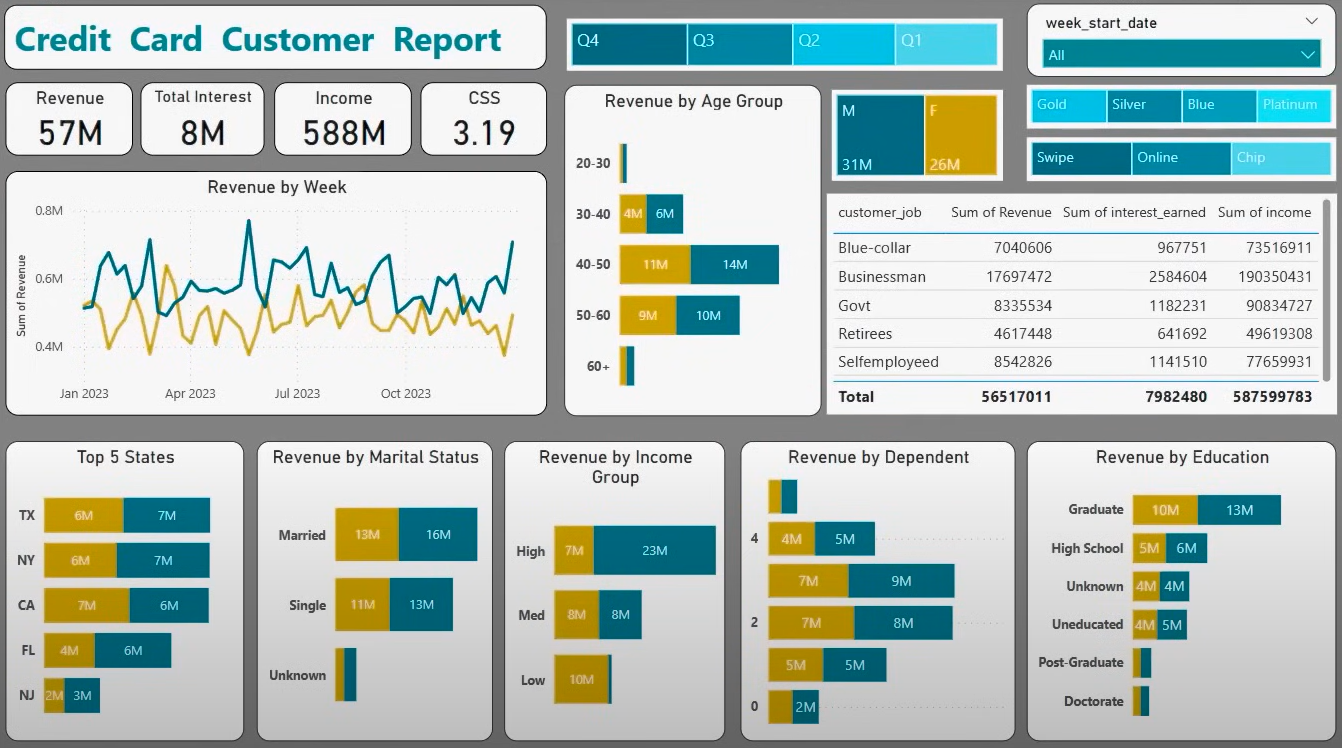

The page's visual inventory and layout, read from the dashboard file:
{"tool":"powerbi","page":{"name":"Page 3","canvas":[1280,720],"ordinal":2},"visuals":[{"type":"textbox","box":[10,20,578.6,77.1],"z":0},{"type":"tableEx","fields":{"Values":["public cust_detail.customer_job","Sum(public cc_detail.Revenue)","Sum(public cc_detail.interest_earned)","Sum(public cust_detail.income)"]},"box":[10,218.6,578.6,228.6],"z":1000},{"type":"card","fields":{"Values":["Sum(public cc_detail.Revenue)"]},"box":[154.3,111.4,134.3,95.7],"z":2000},{"type":"card","fields":{"Values":["Sum(public cc_detail.interest_earned)"]},"box":[10,111.4,128.6,95.7],"z":3000},{"type":"card","fields":{"Values":["Avg(public cust_detail.cust_satisfaction_score)"]},"box":[464.3,111.4,124.3,95.7],"z":4000},{"type":"card","fields":{"Values":["Sum(public cust_detail.income)"]},"box":[310,111.4,141.4,95.7],"z":5000},{"type":"slicer","fields":{"Values":["public cc_detail.week_start_date"]},"box":[923.5,20.6,352.7,76.8],"z":6000},{"type":"treemap","fields":{"Group":["public cc_detail.qtr"],"Values":["Sum(public cc_detail.Revenue)"]},"box":[611.4,20,301.4,67.1],"z":7000},{"type":"treemap","fields":{"Values":["Count(public cc_detail.client_num)"],"Group":["public cust_detail.gender"]},"box":[771.4,97.1,141.4,78.6],"z":8000},{"type":"treemap","fields":{"Values":["Avg(public cc_detail.client_num)"],"Group":["public cc_detail.card_category"]},"box":[931.4,108.6,344.3,84.3],"z":9000},{"type":"barChart","title":"Revenue by Expenditure Type","fields":{"Y":["Sum(public cc_detail.Revenue)"],"Series":["public cust_detail.gender"],"Category":["public cust_detail.education_level"]},"box":[1035.7,437.1,240,274.3],"z":10000},{"type":"lineChart","fields":{"Y":["Sum(public cc_detail.Revenue)"],"Category":["public cc_detail.week_start_date.Variation.Date Hierarchy.Year","public cc_detail.week_start_date.Variation.Date Hierarchy.Quarter","public cc_detail.week_start_date.Variation.Date Hierarchy.Month","public cc_detail.week_start_date.Variation.Date Hierarchy.Day"],"Series":["public cust_detail.gender"]},"box":[852.9,207.1,422.9,218.6],"z":10001},{"type":"treemap","fields":{"Group":["public cust_detail.gender"],"Values":["Sum(public cc_detail.Revenue)"]},"box":[611.4,97.1,150,78.6],"z":10002},{"type":"barChart","title":"Revenue by Income Group","fields":{"Y":["Sum(public cc_detail.Revenue)"],"Series":["public cust_detail.gender"],"Category":["public cust_detail.IncomeGroup"]},"box":[295.7,457.1,292.9,251.4],"z":10003},{"type":"barChart","title":"Revenue by Dependent","fields":{"Y":["Sum(public cc_detail.Revenue)"],"Category":["public cust_detail.dependent_count"],"Series":["public cust_detail.gender"]},"box":[611.4,437.1,210,272.9],"z":10004},{"type":"barChart","title":"Revenue by Marital Status","fields":{"Y":["Sum(public cc_detail.Revenue)"],"Series":["public cust_detail.gender"],"Category":["public cust_detail.marital_status"]},"box":[10,457.1,271.4,251.4],"z":10005},{"type":"barChart","title":"Top 5 States","fields":{"Y":["Sum(public cc_detail.Revenue)"],"Category":["public cust_detail.state_cd"],"Series":["public cust_detail.gender"]},"box":[832.9,438.6,197.1,272.9],"z":10006},{"type":"barChart","title":"Revenue by Age Group","fields":{"Y":["Sum(public cc_detail.Revenue)"],"Series":["public cust_detail.gender"],"Category":["public cust_detail.AgeGroup"]},"box":[611.4,192.9,231.4,232.9],"z":10007}]}

Visuals, with their boxes in screenshot pixels (x1, y1, x2, y2), scaled from the page's 1280x720 canvas onto the 1342x748 screenshot:
textbox: locate(10, 21, 617, 101)
tableEx - public cust_detail.customer_job x Sum(public cc_detail.Revenue): locate(10, 227, 617, 465)
card - Sum(public cc_detail.Revenue): locate(162, 116, 303, 215)
card - Sum(public cc_detail.interest_earned): locate(10, 116, 145, 215)
card - Avg(public cust_detail.cust_satisfaction_score): locate(487, 116, 617, 215)
card - Sum(public cust_detail.income): locate(325, 116, 473, 215)
slicer - public cc_detail.week_start_date: locate(968, 21, 1338, 101)
treemap - public cc_detail.qtr x Sum(public cc_detail.Revenue): locate(641, 21, 957, 90)
treemap - Count(public cc_detail.client_num) x public cust_detail.gender: locate(809, 101, 957, 183)
treemap - Avg(public cc_detail.client_num) x public cc_detail.card_category: locate(977, 113, 1337, 200)
"Revenue by Expenditure Type" barChart: locate(1086, 454, 1337, 739)
lineChart - Sum(public cc_detail.Revenue) x public cc_detail.week_start_date.Variation.Date Hierarchy.Year: locate(894, 215, 1338, 442)
treemap - public cust_detail.gender x Sum(public cc_detail.Revenue): locate(641, 101, 798, 183)
"Revenue by Income Group" barChart: locate(310, 475, 617, 736)
"Revenue by Dependent" barChart: locate(641, 454, 861, 738)
"Revenue by Marital Status" barChart: locate(10, 475, 295, 736)
"Top 5 States" barChart: locate(873, 456, 1080, 739)
"Revenue by Age Group" barChart: locate(641, 200, 884, 442)
